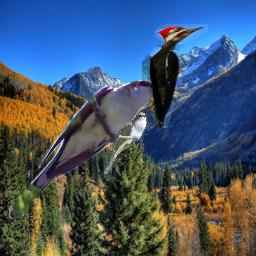Cuckoo: (9, 79, 171, 219), (103, 112, 148, 174)
Woodpecker: (142, 24, 208, 128)
